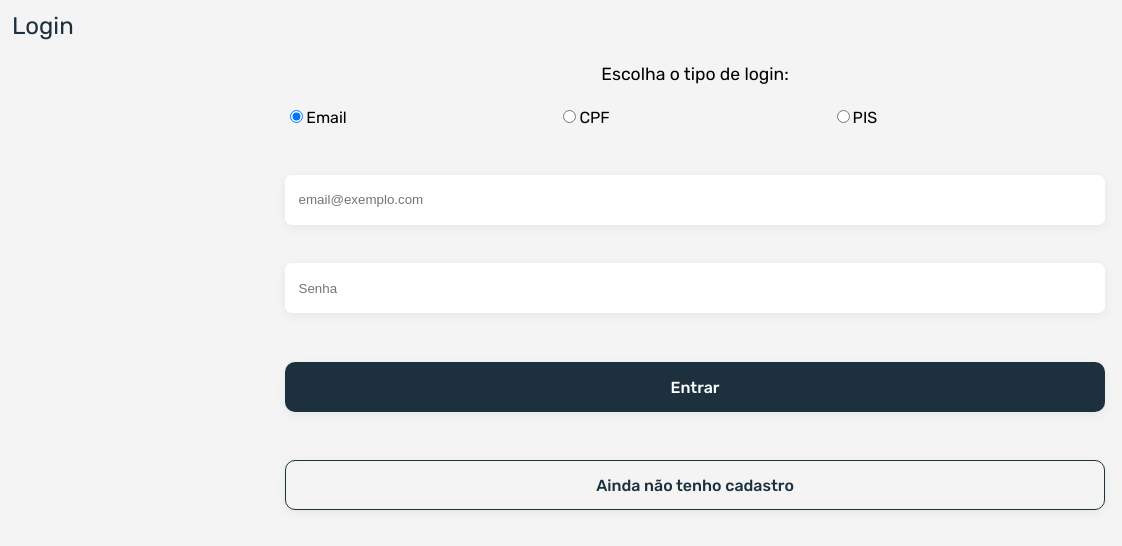
Scenario: Login › Submit flow › form shows error if passoword is empty
Type "a" into the password field with placeholder "Senha".
click(695, 288); type("a")  # box [285, 263, 1105, 313]
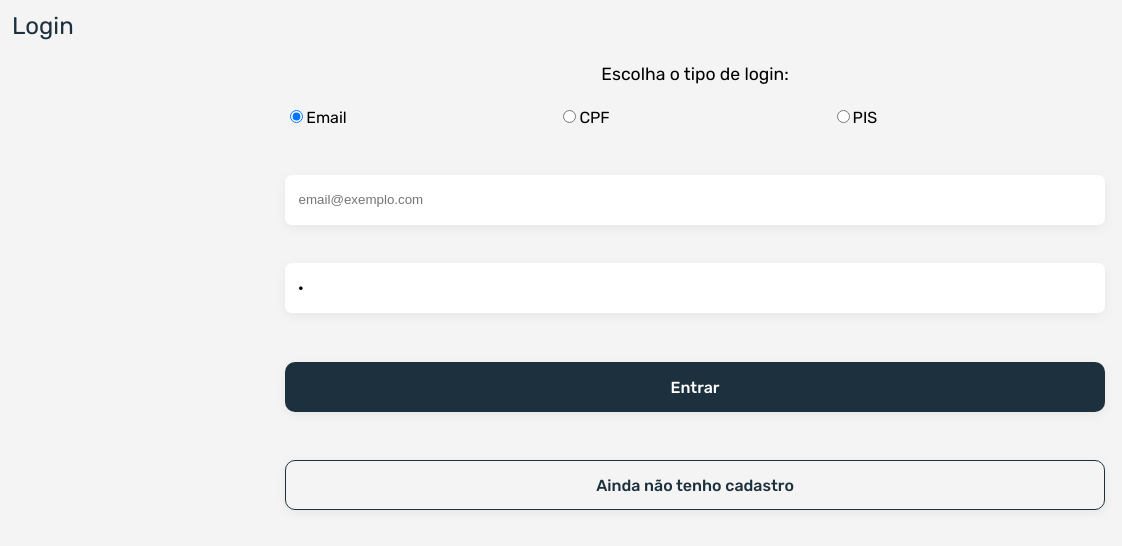
Clear the password field with placeholder "Senha" at [695, 288], box [285, 263, 1105, 313]
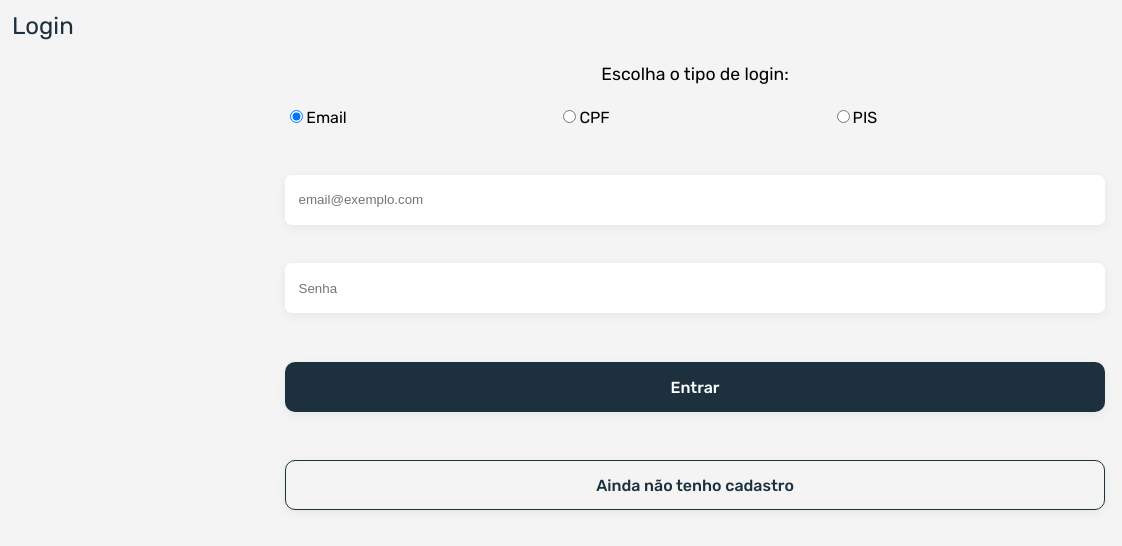
Leave the password field with placeholder "Senha", box [285, 263, 1105, 313]
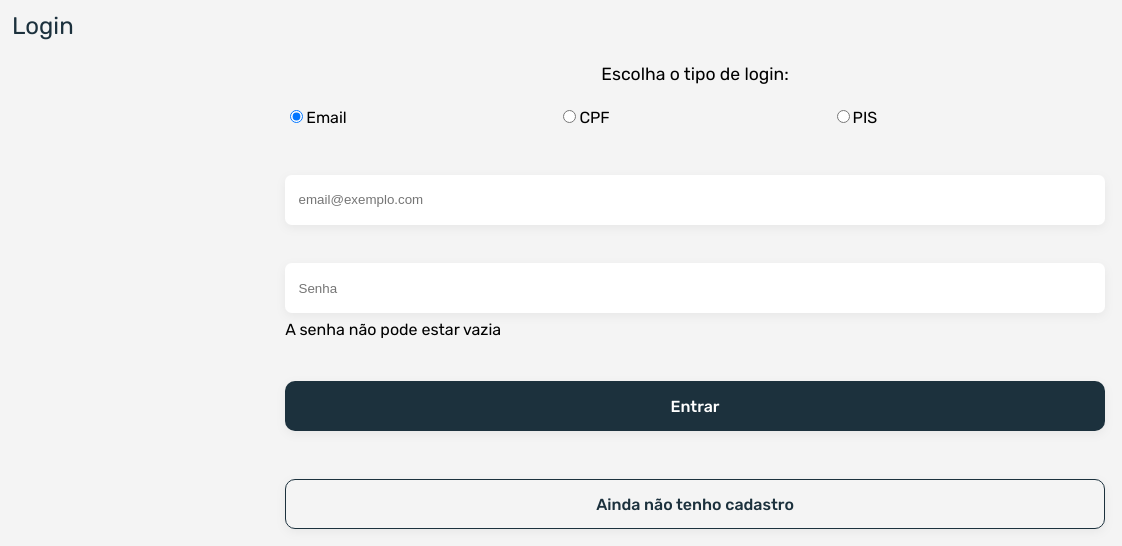
Now the text "A senha não pode estar vazia" is shown, box [285, 320, 501, 339]
